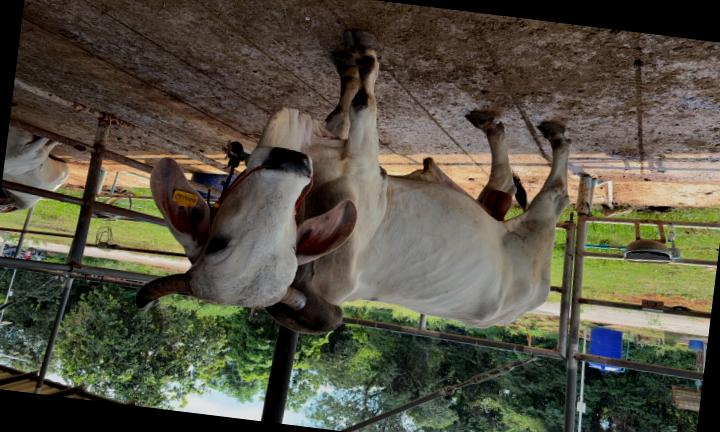Brahman: (135, 31, 570, 334)
